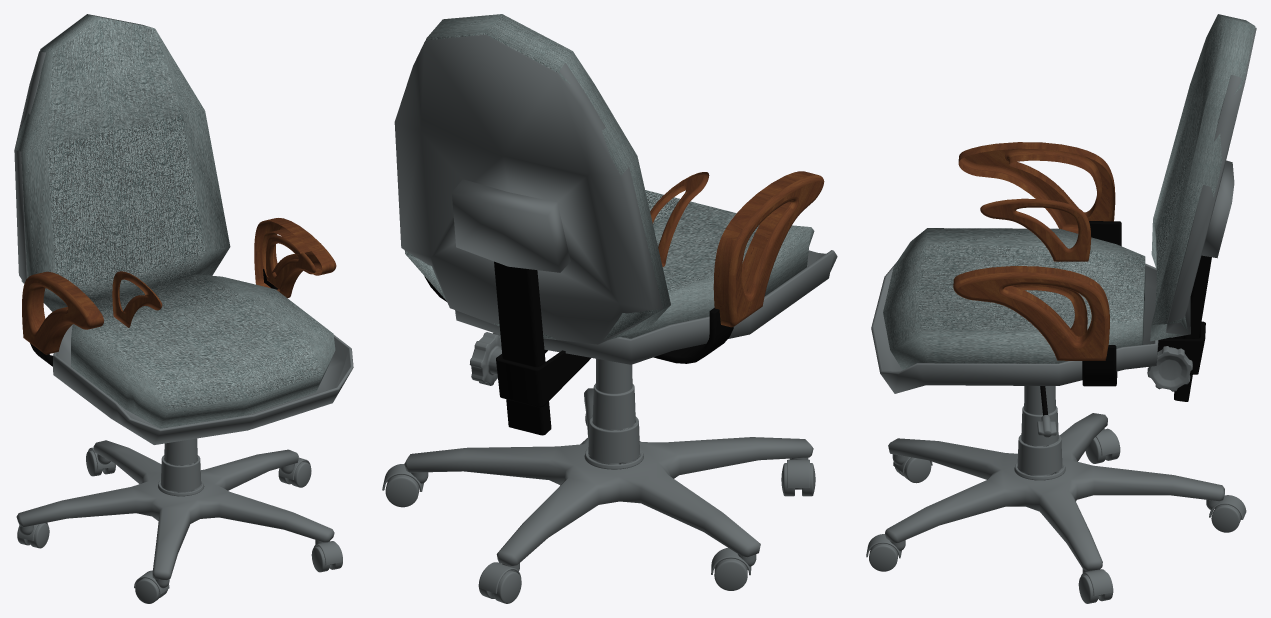
Rendered from office-chair2.glb.
3 renders of one model, left to right at view 1: azimuth 30°, elevation 25°; view 2: azimuth 150°, elevation 25°; view 3: azimuth 270°, elevation 25°, orthographic. The views are drawn at different scales.
Visible parts, largest first — view 1: Cube.001, Cube_2, Cylinder, Низ_сидения_3, Выдавливание, Cone, Закругление_1, Низ_сидения, Закругление_2, Шапка_1, Шапка_2, Oil_Tank (+1 smaller); view 2: Низ_сидения, Cylinder, Cube.001, Cube_2, Низ_сидения_3, Стойка_спинки, Cone, Выдавливание, Extrude_NURBS_2, Закругление_1, Шапка_1, Симметрия_1 (+7 smaller); view 3: Cube_2, Cylinder, Cube.001, Низ_сидения_3, Низ_сидения, Закругление_1, Шапка_1, Выдавливание, Cone, Закругление_2, Шапка_2, Симметрия_1 (+7 smaller).
Boxes of the visible parts, bbox=[...] form: Cube.001: bbox=[15, 14, 230, 311]; Cube_2: bbox=[71, 274, 335, 428]; Cylinder: bbox=[16, 440, 334, 580]; Низ_сидения_3: bbox=[53, 325, 353, 444]; Выдавливание: bbox=[32, 218, 333, 354]; Cone: bbox=[158, 438, 204, 496]; Закругление_1: bbox=[22, 218, 336, 354]; Низ_сидения: bbox=[14, 51, 45, 282]; Закругление_2: bbox=[112, 235, 315, 327]; Шапка_1: bbox=[22, 223, 319, 350]; Шапка_2: bbox=[116, 238, 311, 323]; Oil_Tank: bbox=[135, 578, 167, 603]; Низ_сидения: bbox=[394, 34, 662, 344]; Cylinder: bbox=[404, 388, 813, 565]; Cube.001: bbox=[404, 14, 670, 340]; Cube_2: bbox=[620, 190, 814, 338]; Низ_сидения_3: bbox=[455, 250, 837, 364]; Стойка_спинки: bbox=[494, 261, 551, 435]; Cone: bbox=[584, 358, 643, 469]; Выдавливание: bbox=[713, 171, 817, 326]; Extrude_NURBS_2: bbox=[496, 349, 590, 407]; Закругление_1: bbox=[728, 175, 824, 327]; Шапка_1: bbox=[736, 181, 823, 321]; Симметрия_1: bbox=[424, 276, 733, 363]; Cube_2: bbox=[883, 228, 1145, 370]; Cylinder: bbox=[885, 413, 1224, 570]; Cube.001: bbox=[1150, 14, 1255, 341]; Низ_сидения_3: bbox=[871, 263, 1158, 393]; Низ_сидения: bbox=[1166, 27, 1256, 337]; Закругление_1: bbox=[953, 142, 1114, 360]; Шапка_1: bbox=[958, 148, 1110, 358]; Выдавливание: bbox=[953, 142, 1115, 342]; Cone: bbox=[1014, 386, 1065, 480]; Закругление_2: bbox=[980, 198, 1091, 334]; Шапка_2: bbox=[983, 203, 1087, 336]; Симметрия_1: bbox=[1082, 221, 1121, 386].
Size of the model in its own units: 0.3233 by 0.482 by 0.3365.
5 materials, 3 textured.
